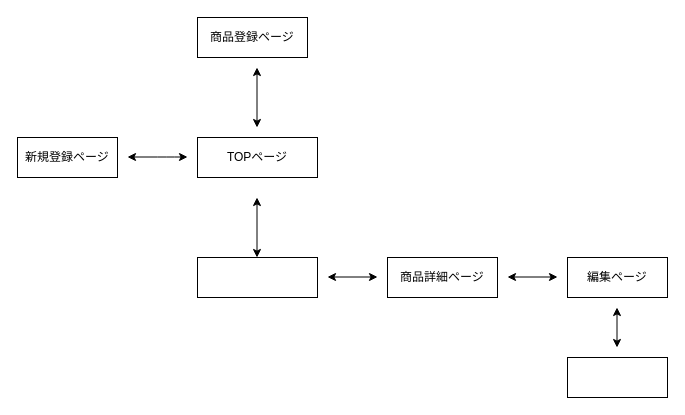
The diagram is 685 pixels wide and 415 high, and some of its shapes have lost their labels. Here are the shapes that lost their labels. From the top down, the centre of each, then its label:
At point (257, 277): "登録一覧ページ".
At point (617, 377): "削除完了ページ".
